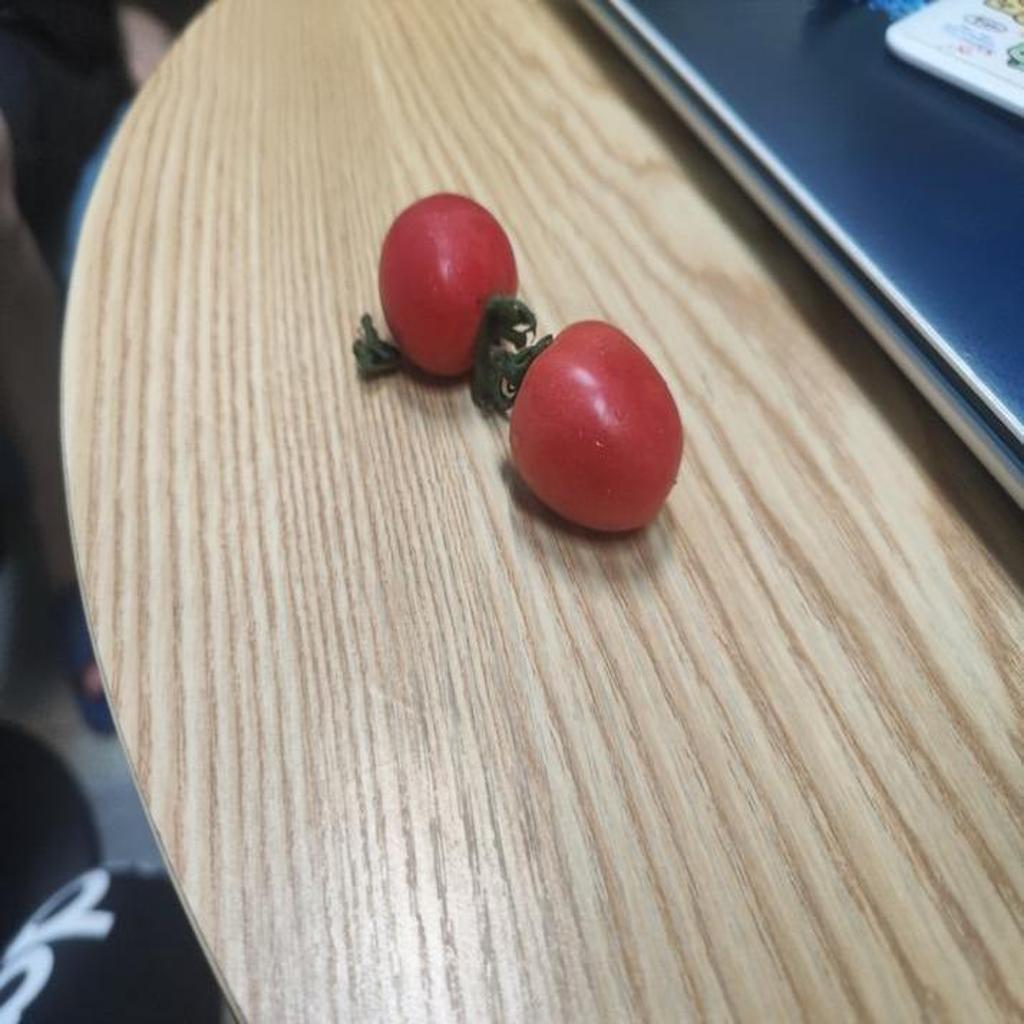tomato: (503, 327, 694, 541), (380, 190, 533, 373)
